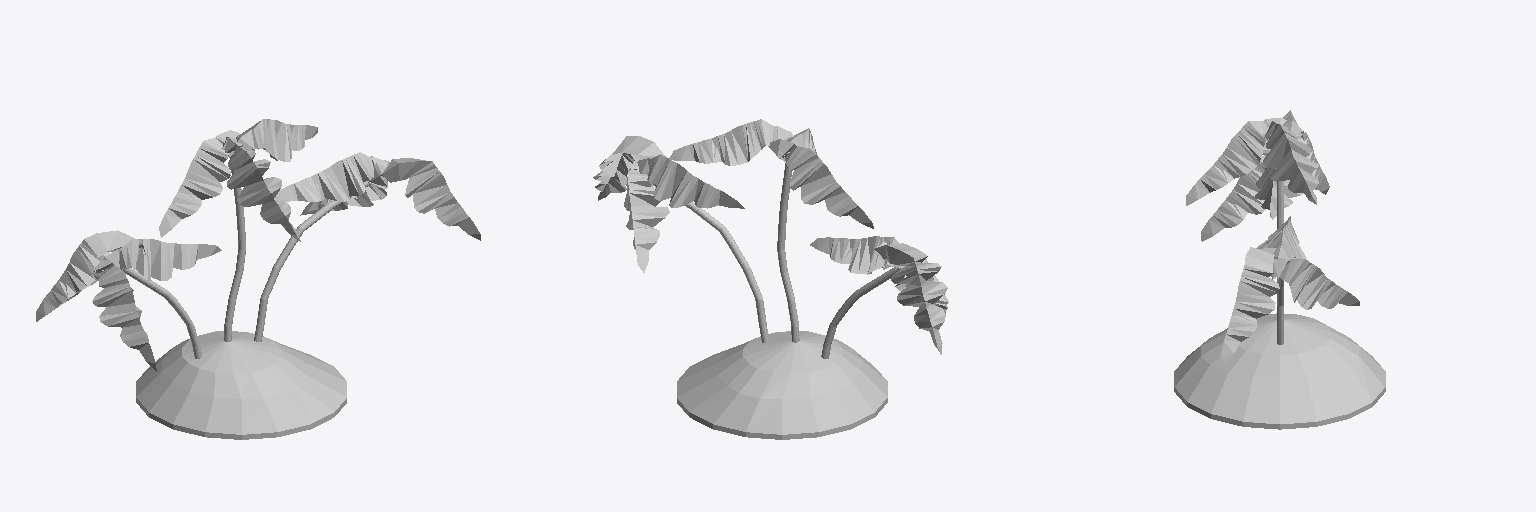
Rendered from islandFile.obj.
3 renders of one model, left to right at view 1: azimuth 30°, elevation 25°; view 2: azimuth 150°, elevation 25°; view 3: azimuth 270°, elevation 25°, orthographic.
Parts seen in each view (by area): view 1: Sand, Tree003, Tree001, Tree002; view 2: Sand, Tree002, Tree001, Tree003; view 3: Sand, Tree002, Tree001, Tree003.
Boxes of the visible parts, x1=… form: Sand: x1=136, y1=331, x2=346, y2=439; Tree003: x1=36, y1=230, x2=221, y2=371; Tree001: x1=159, y1=119, x2=317, y2=341; Tree002: x1=254, y1=152, x2=480, y2=341; Sand: x1=677, y1=331, x2=887, y2=439; Tree002: x1=593, y1=136, x2=769, y2=342; Tree001: x1=669, y1=119, x2=873, y2=342; Tree003: x1=810, y1=236, x2=948, y2=358; Sand: x1=1174, y1=313, x2=1385, y2=429; Tree002: x1=1221, y1=216, x2=1359, y2=364; Tree001: x1=1186, y1=110, x2=1319, y2=228; Tree003: x1=1201, y1=132, x2=1329, y2=241.
Bounding box in the file's own units: 13.43 × 8.8 × 6.22.